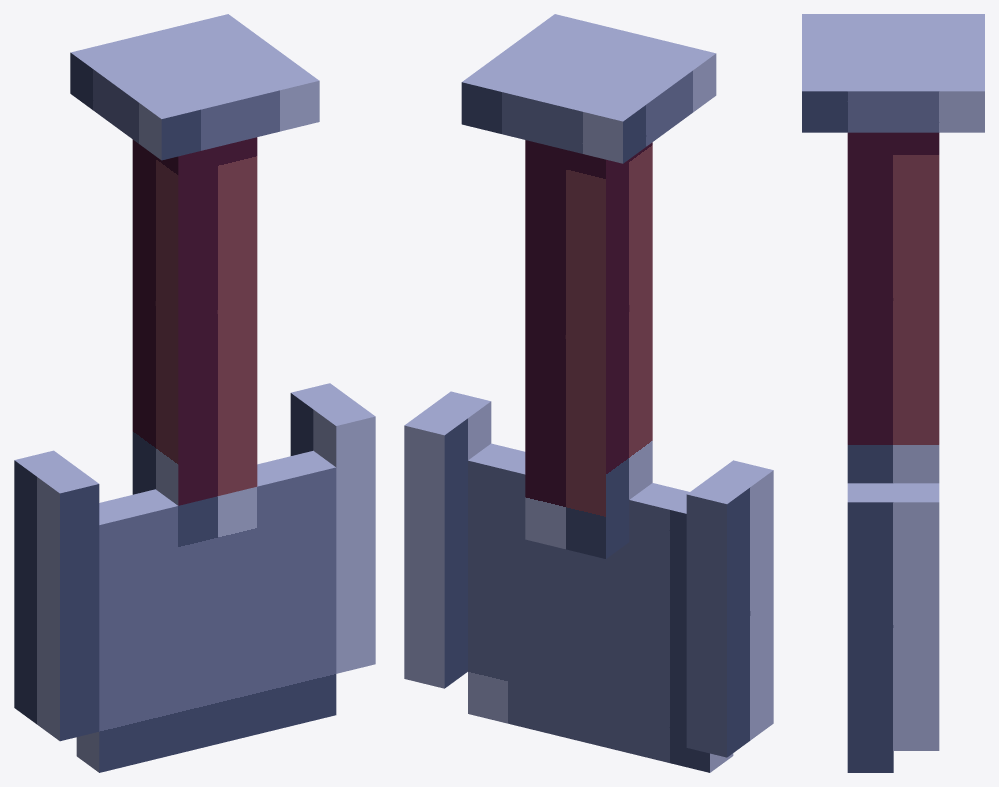
Rendered from mine_tools_0ao.fezao.glb.
3 renders of one model, left to right at view 1: azimuth 30°, elevation 25°; view 2: azimuth 150°, elevation 25°; view 3: azimuth 270°, elevation 25°, orthographic. The views are drawn at different scales.
Parts seen in each view (by area): view 1: MINE_TOOLS_0AO; view 2: MINE_TOOLS_0AO; view 3: MINE_TOOLS_0AO.
Boxes of the visible parts, x1,y1,x2,y2 form: MINE_TOOLS_0AO: (14,14,375,772); MINE_TOOLS_0AO: (404,14,773,772); MINE_TOOLS_0AO: (802,14,984,772).
Bounding box in the file's own units: 0.5 × 1 × 0.25.
1 material, 1 textured.
